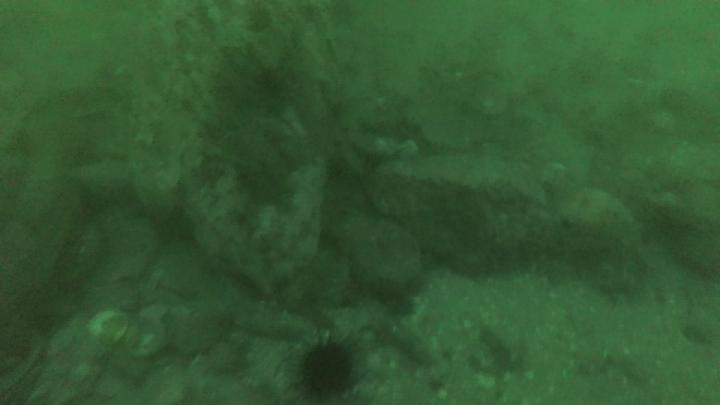echinus: (303, 345, 354, 395)
scallop: (86, 308, 126, 346)
